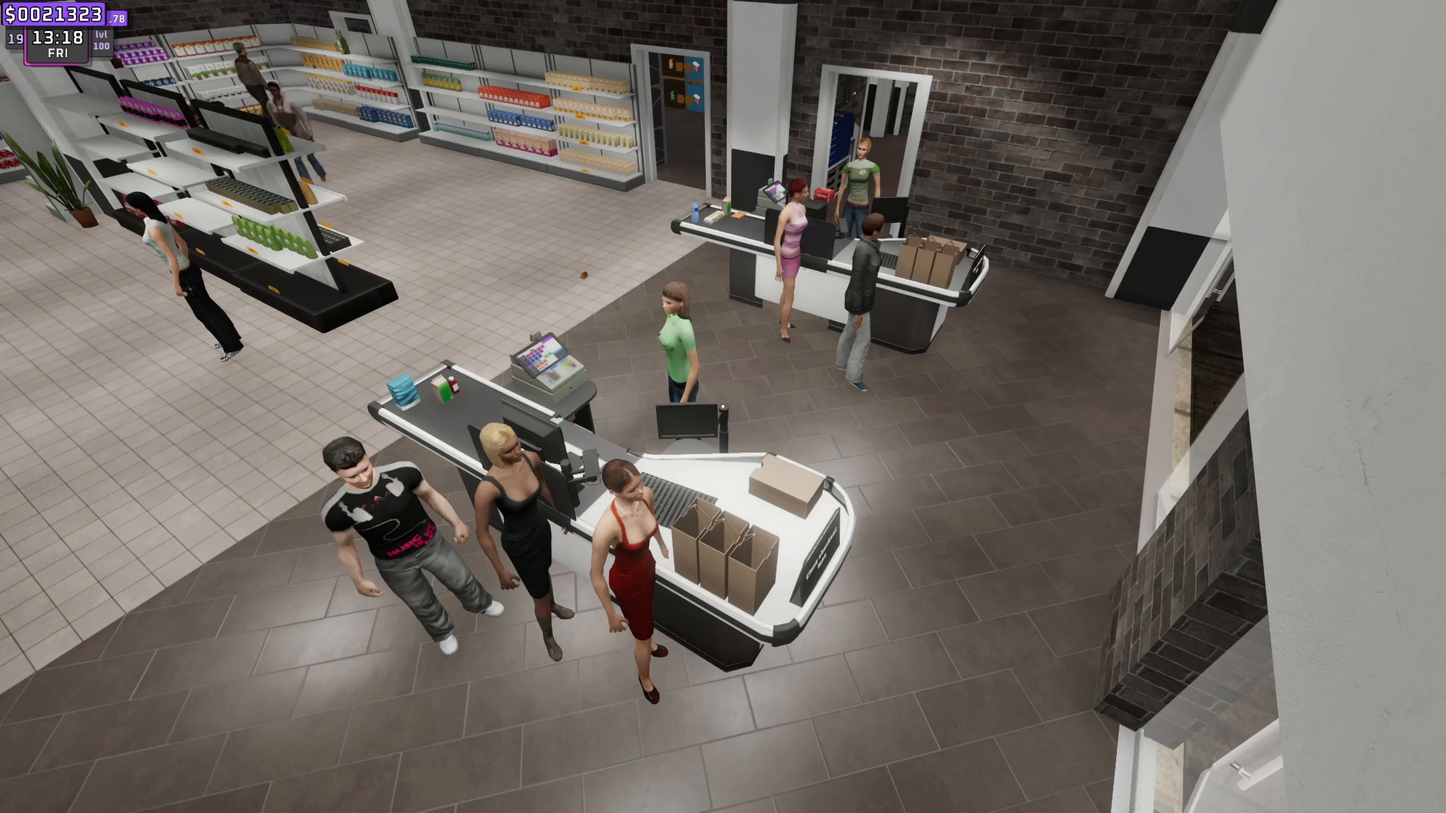Client: (309, 436, 480, 645), (459, 407, 579, 655), (598, 457, 697, 697), (768, 178, 813, 338), (846, 213, 883, 401)
Employee: (652, 280, 708, 398), (839, 142, 876, 207)
